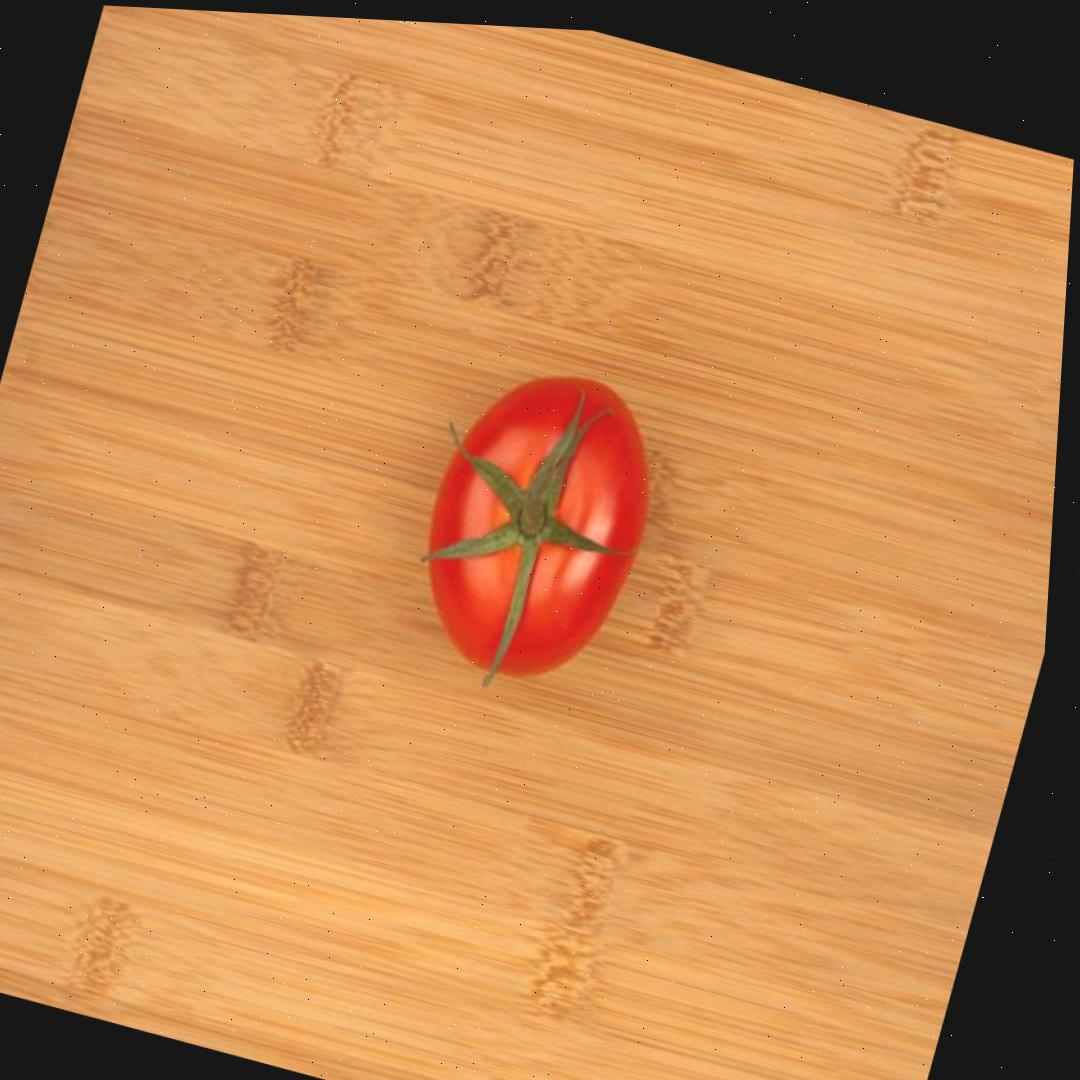matang: (391, 345, 682, 704)
